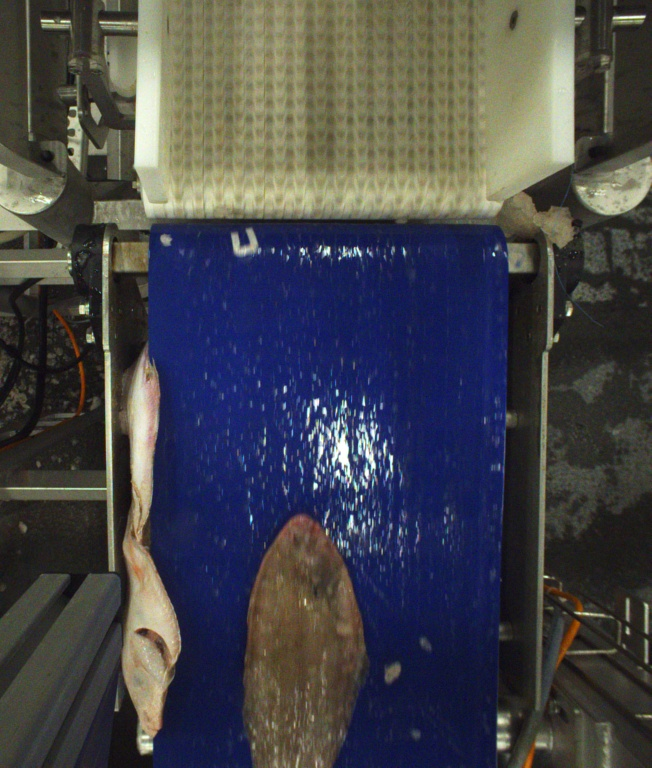SOL: (239, 515, 363, 768)
